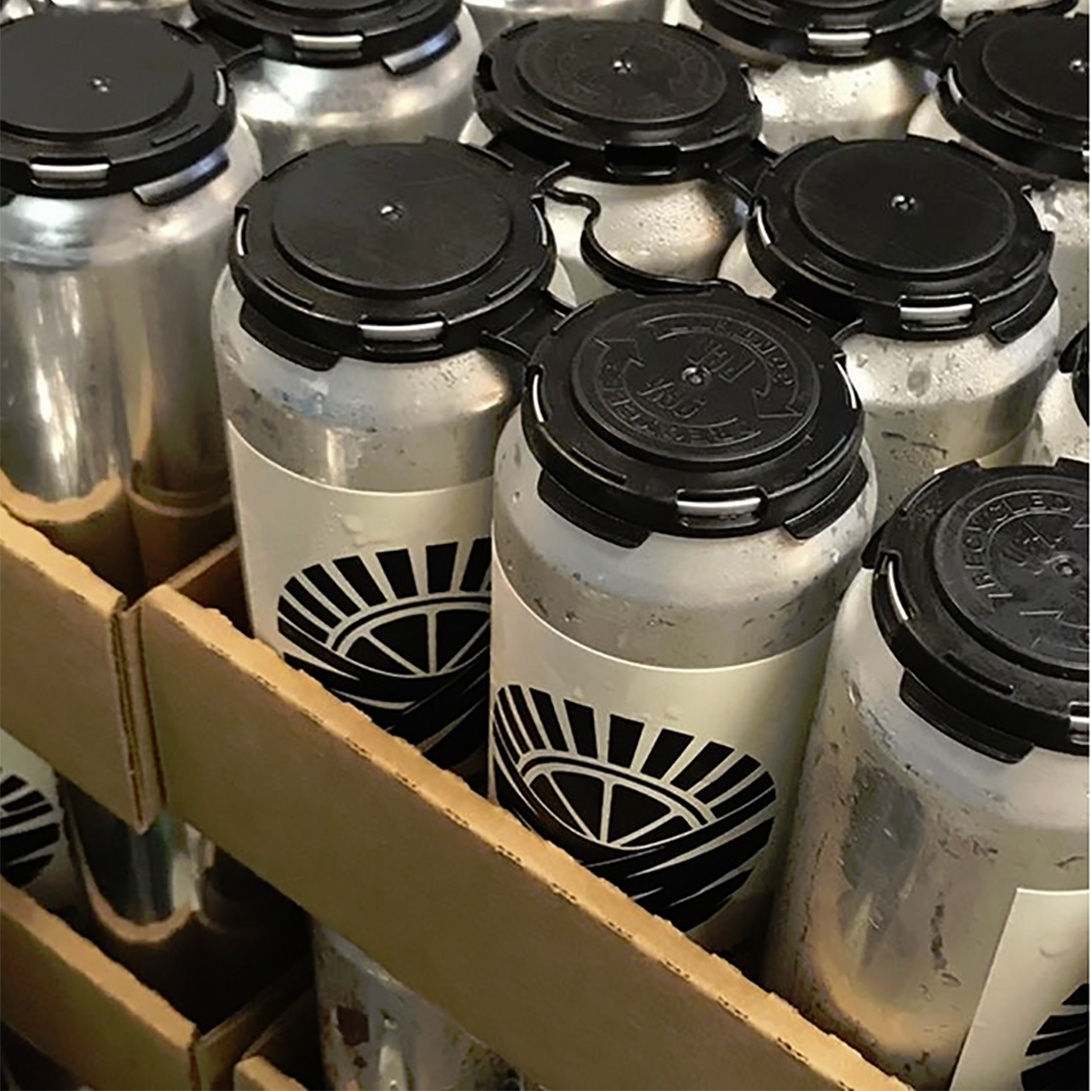beer can: (489, 269, 879, 1016), (218, 145, 540, 806), (795, 461, 1091, 1081)
